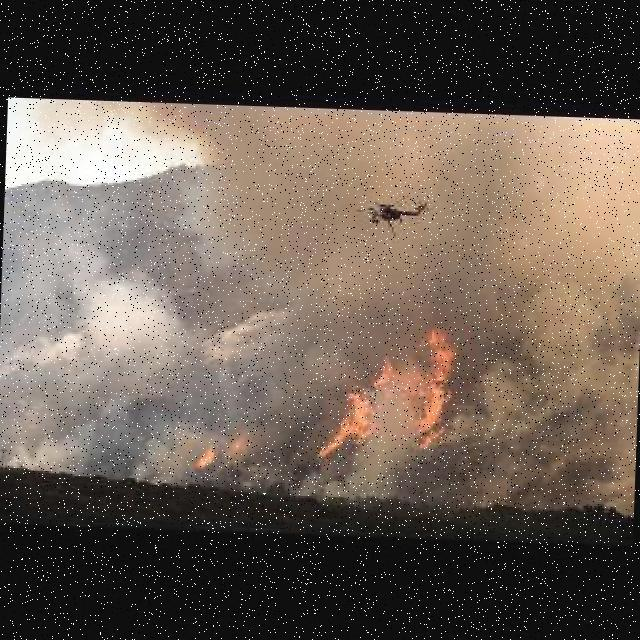Fire: (309, 308, 468, 465), (191, 424, 255, 474)
Smoke: (4, 100, 639, 513)
